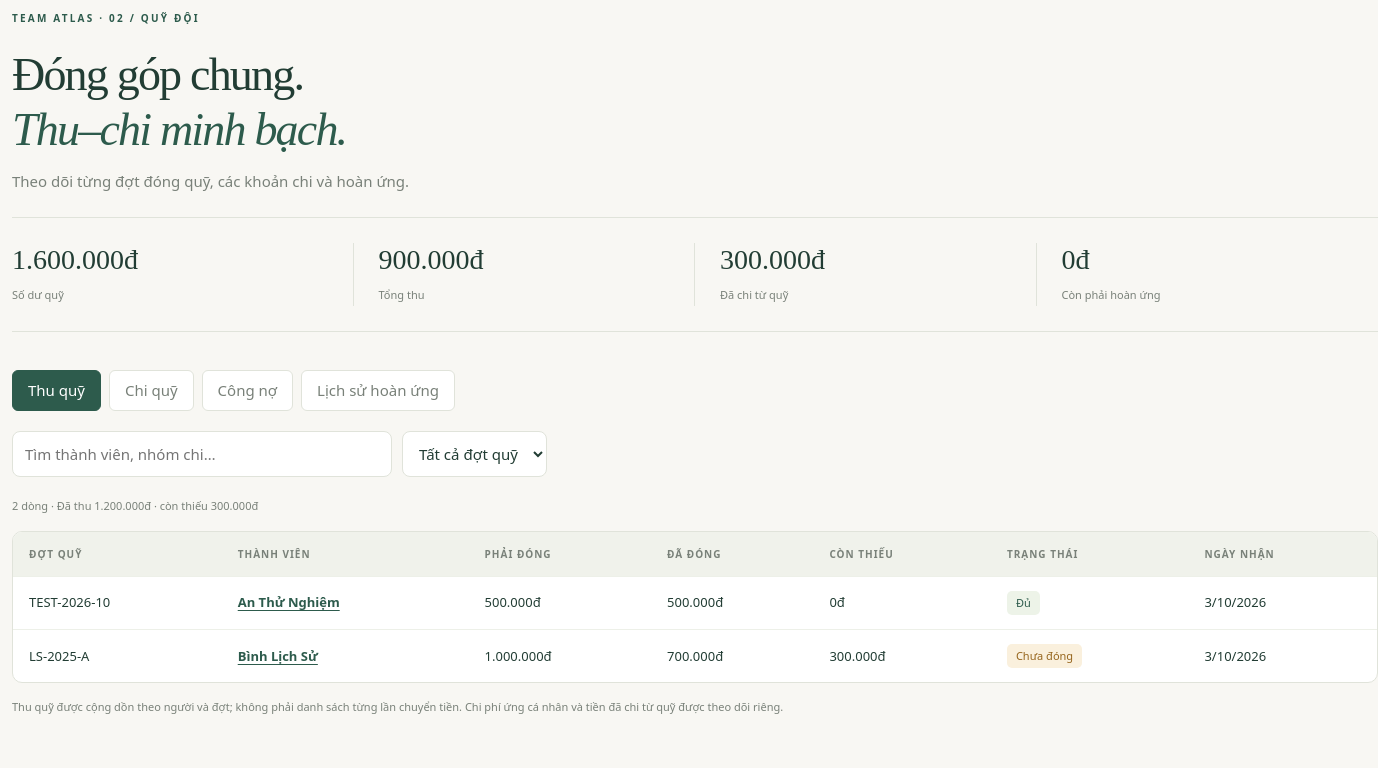
Scenario: FinancePage › filters by a chosen period and scopes the totals
Select "LS-2025-A" in the dropdown named "Lọc đợt quỹ": (474, 454) [402,431,547,478]
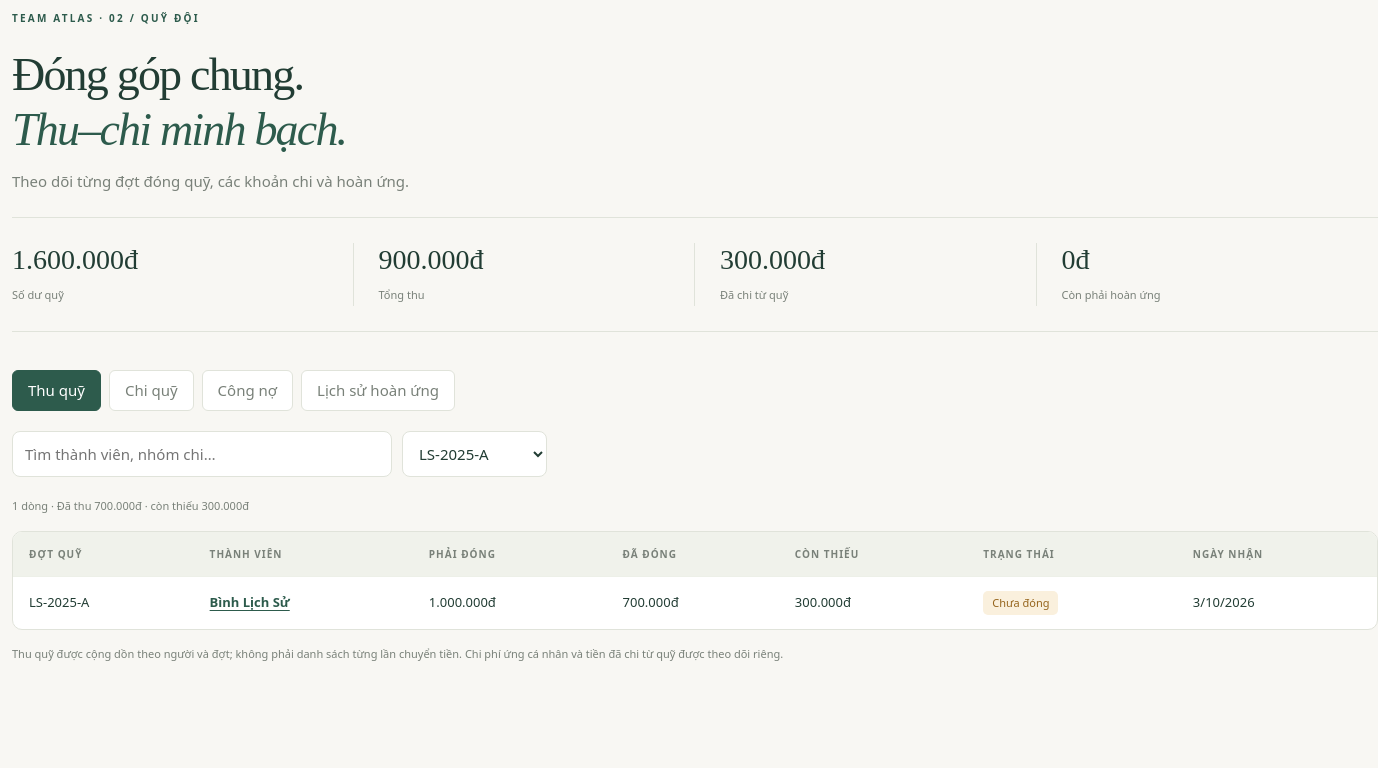
Expected: the text "LS-2025-A" is shown, [13,577,194,629]
Expected: the text "TEST-2026-10" is gone
Expected: the message shows "1 dòng", [12,498,249,514]
